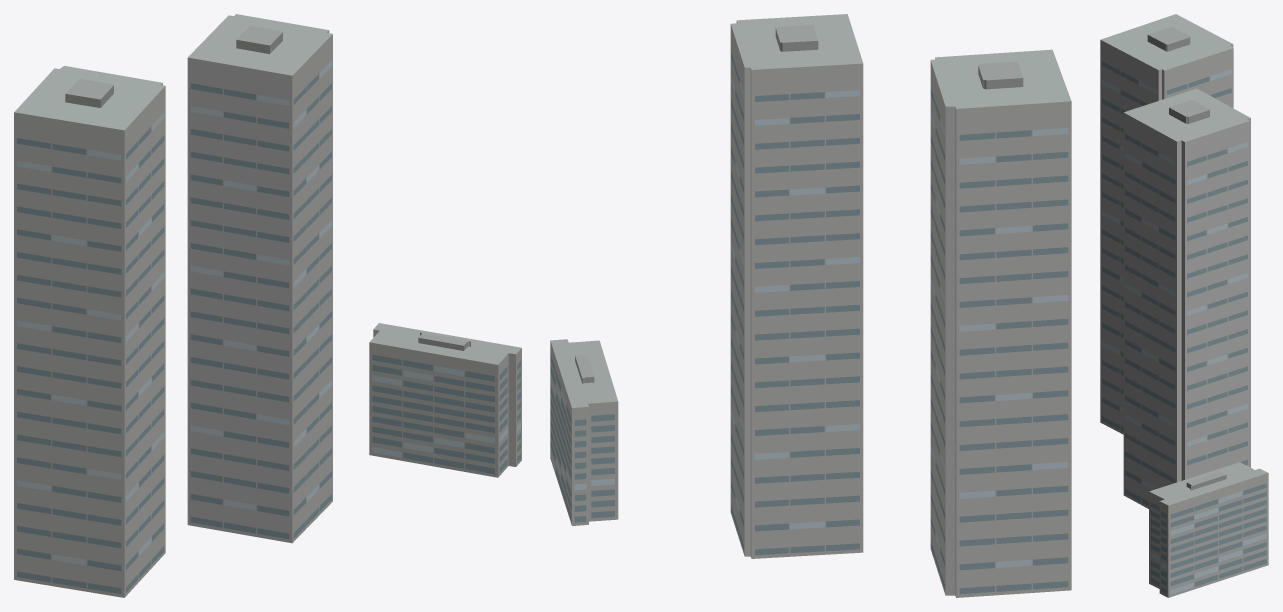
File: apt-a15076301.glb
3 views of the same model, side by side, from view 1: azimuth 30°, elevation 25°; view 2: azimuth 150°, elevation 25°; view 3: azimuth 270°, elevation 25° (orthographic). The views are drawn at different scales.
Parts seen in each view (by area): view 1: apt-a15076301; view 2: apt-a15076301; view 3: apt-a15076301.
Boxes of the visible parts, box(x1,y1,x2,y2) form: apt-a15076301: box(14, 14, 521, 597); apt-a15076301: box(550, 14, 1071, 597); apt-a15076301: box(1100, 14, 1268, 597).
Bounding box in the file's own units: 147 × 133 × 51.95.
